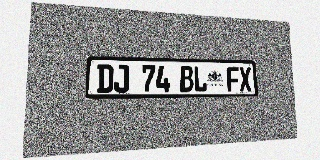4: (156, 65, 170, 92)
7: (141, 65, 156, 92)
B: (180, 66, 194, 92)
D: (97, 64, 113, 93)
F: (227, 67, 240, 91)
J: (113, 65, 129, 93)
L: (193, 66, 207, 92)
X: (239, 67, 252, 91)
